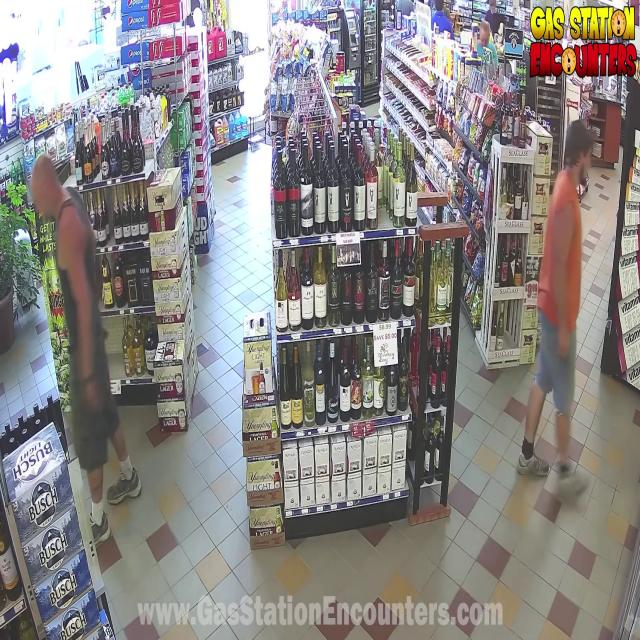normal: (17, 136, 148, 566), (510, 108, 622, 522)
